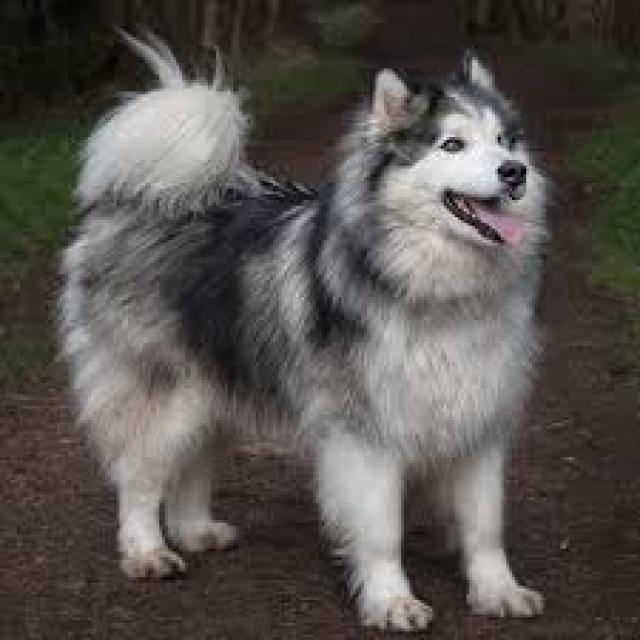ALASKAN_MALAMUTE: (49, 13, 565, 632)
